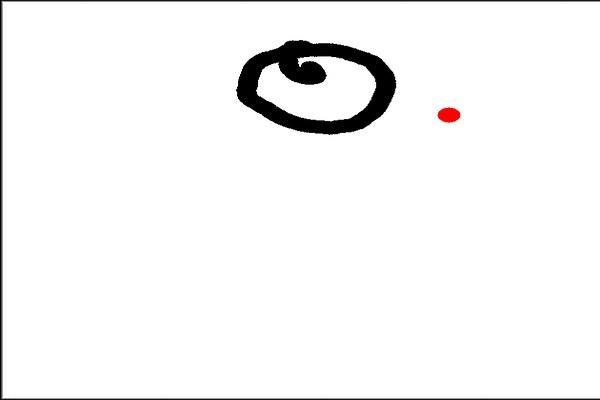O: (230, 36, 404, 143)
